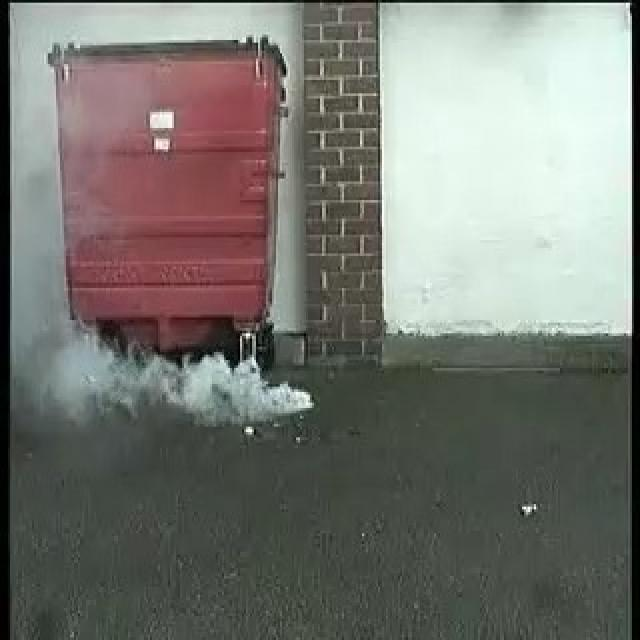smoke: (51, 348, 310, 419)
